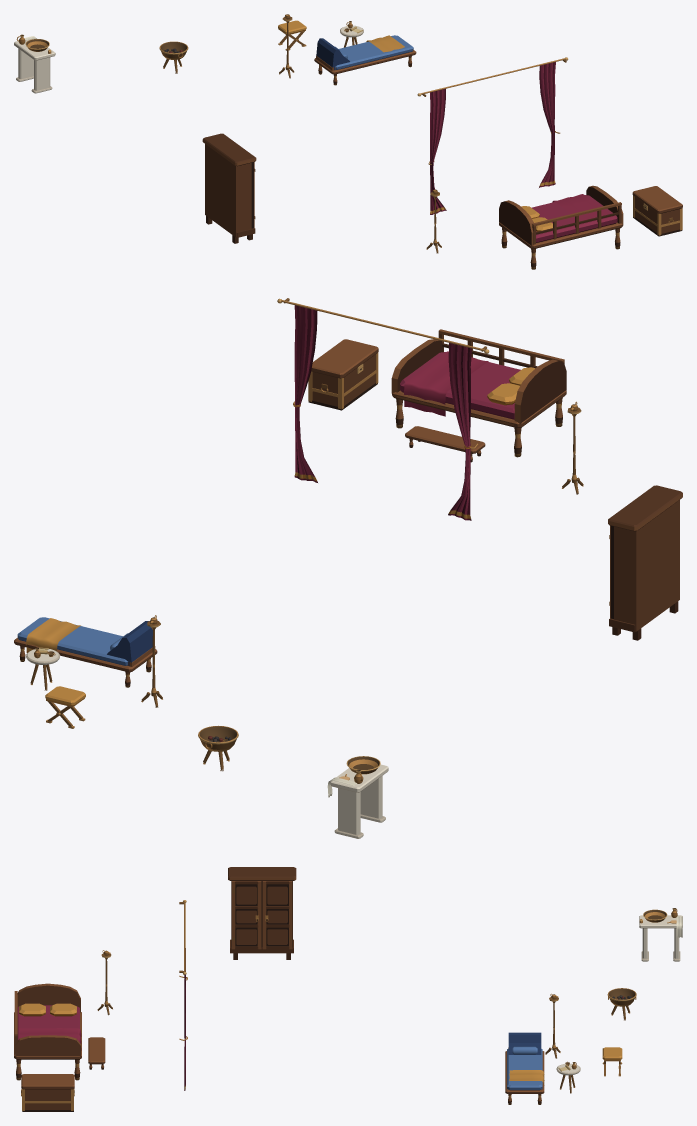
File: rome_tr_fit_2E04.glb
The picture shows the model from 3 angles, top to bottom: view 1: azimuth 30°, elevation 25°; view 2: azimuth 150°, elevation 25°; view 3: azimuth 270°, elevation 25°; orthographic projection. The views are drawn at different scales.
Visible parts, largest first — view 1: room_2E04; view 2: room_2E04; view 3: room_2E04.
Part boxes in pixels (x1,y1,x2,y2): room_2E04: [14, 14, 682, 269]; room_2E04: [14, 298, 682, 838]; room_2E04: [14, 867, 682, 1111].
Size of the model in its own units: 8.2 by 2.94 by 13.75.
